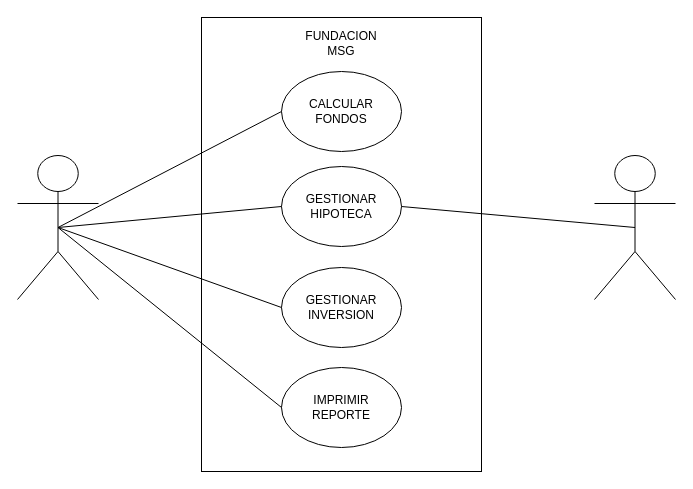
Some shapes in this 693 by 489 pixel diagram are drawn without their labels. Here are the shapes that lost their labels. From the top down, the box of each, then its label:
(16, 154, 98, 300): EMPLEADO MSG
(594, 154, 676, 300): DEUDOR
